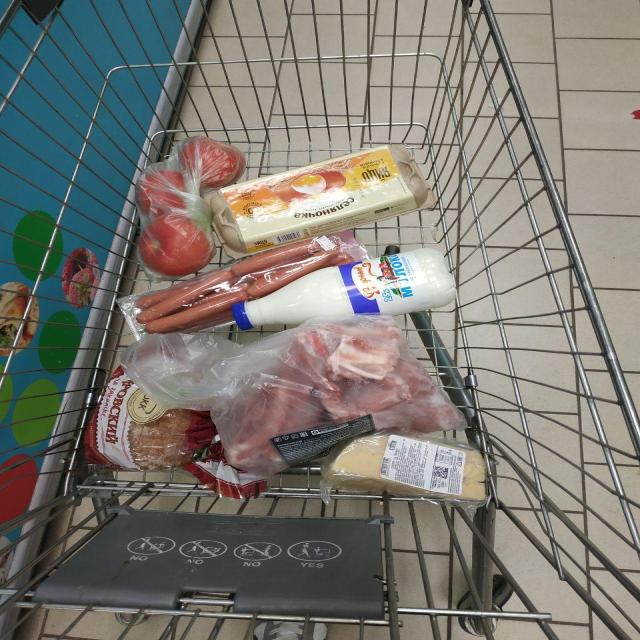cheese: (250, 229, 640, 640)
egg: (180, 114, 575, 329)
milk: (126, 158, 525, 472)
tomato: (112, 131, 318, 363), (122, 92, 368, 250), (99, 105, 261, 288)
